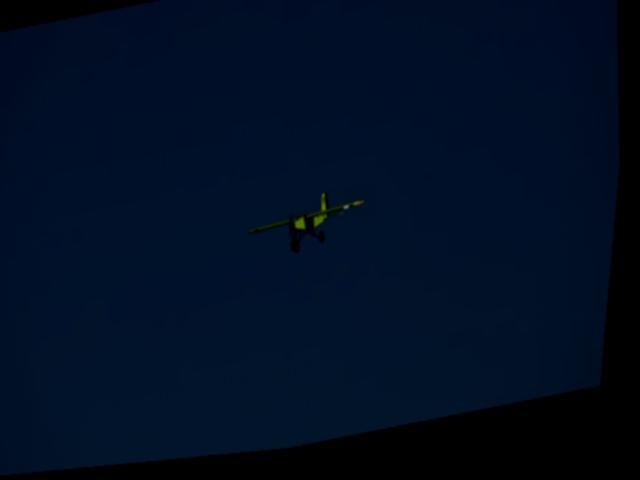plane: (250, 194, 375, 267)
